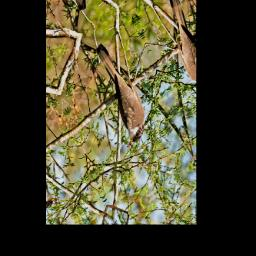Cuckoo: (88, 34, 154, 149)
